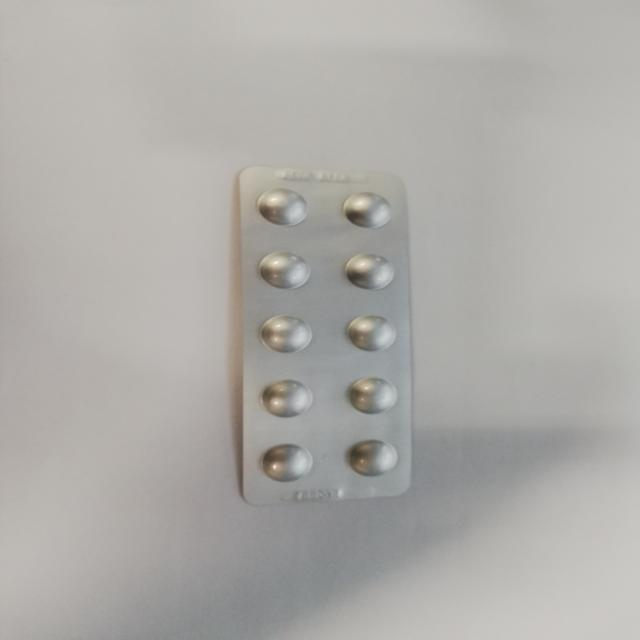Pill: (339, 428, 411, 480), (246, 246, 317, 297), (250, 436, 322, 486), (258, 372, 322, 428), (339, 310, 407, 360), (332, 248, 404, 294), (250, 182, 317, 230), (339, 187, 405, 232), (344, 372, 408, 418), (252, 311, 317, 354)
